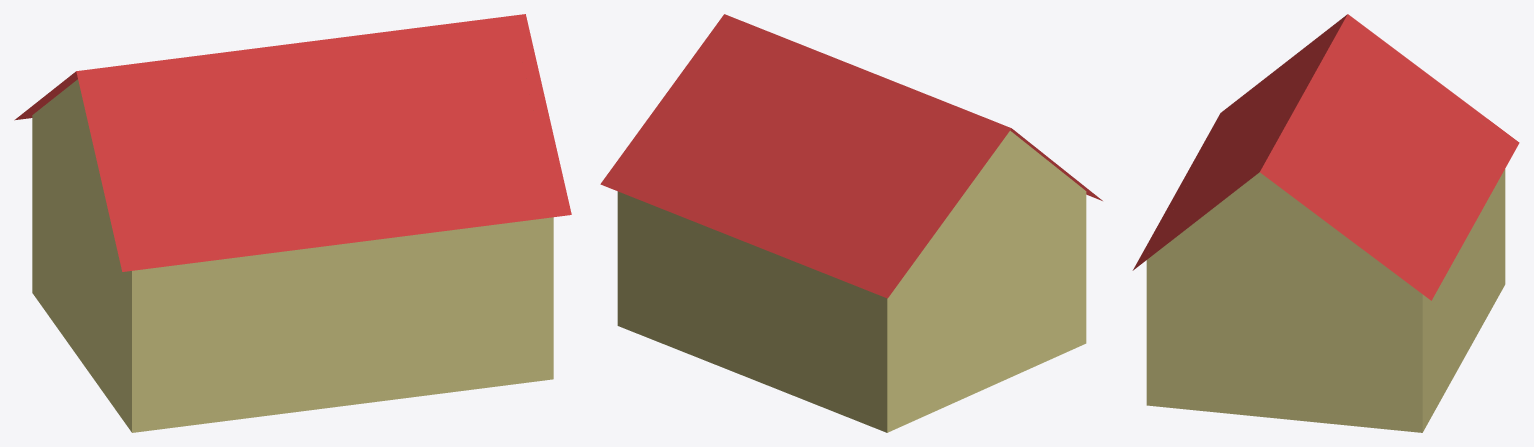
3 renders of one model, left to right at view 1: azimuth 30°, elevation 25°; view 2: azimuth 150°, elevation 25°; view 3: azimuth 270°, elevation 25°, orthographic. The views are drawn at different scales.
Size of the model in its own units: 18.56 by 16.16 by 11.5.
